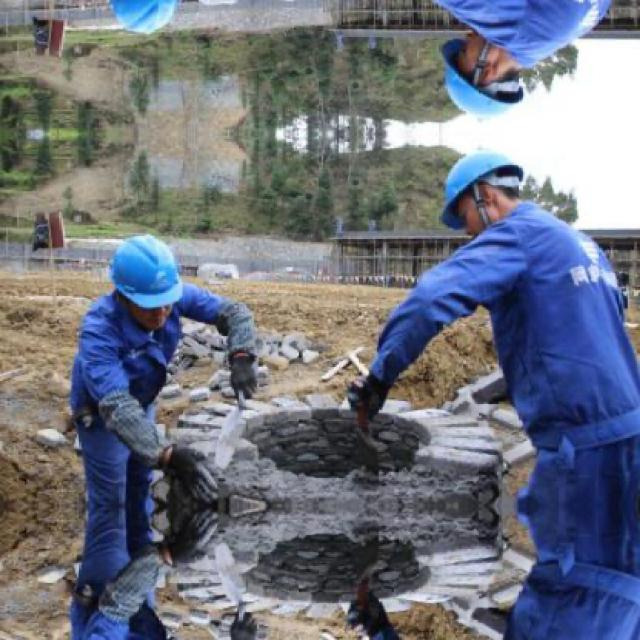con casco: (62, 201, 226, 373), (438, 134, 572, 287)
